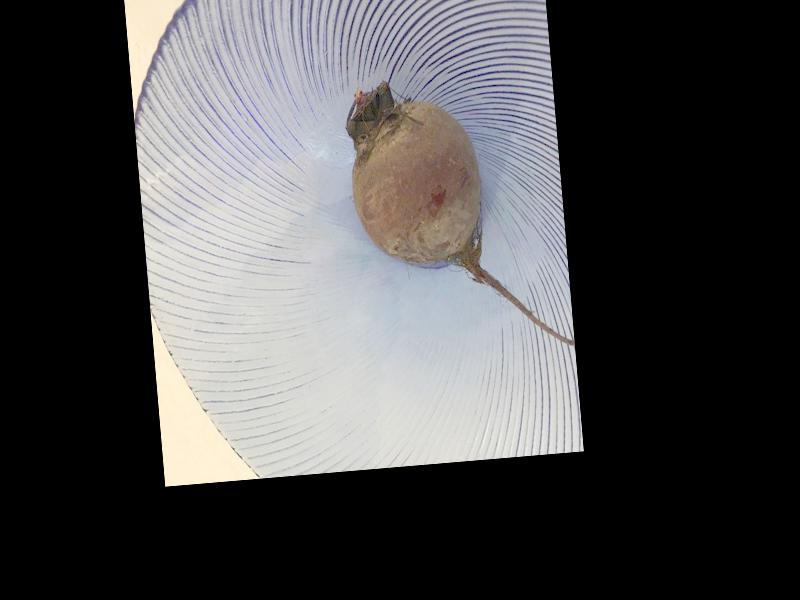Beet: (343, 68, 575, 362)
